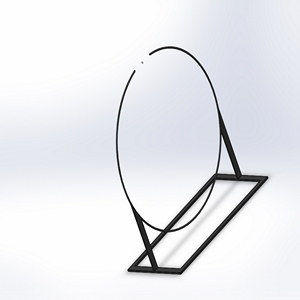circle: (113, 41, 268, 275)
